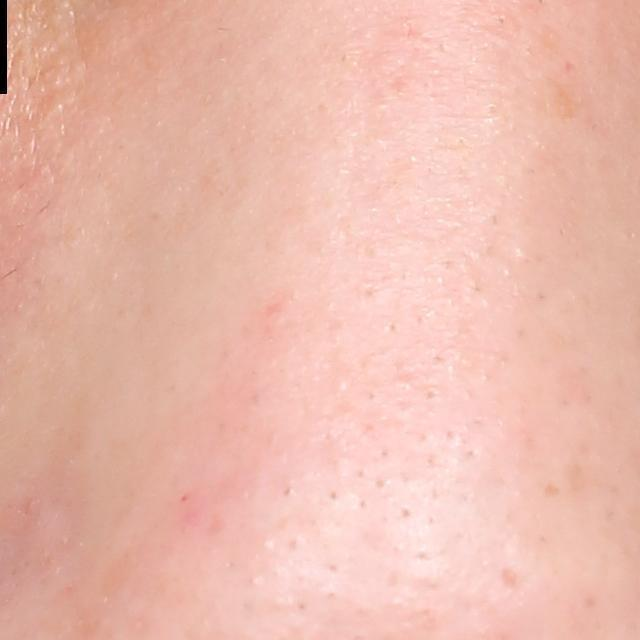atrophic_scar: (498, 563, 529, 597)
